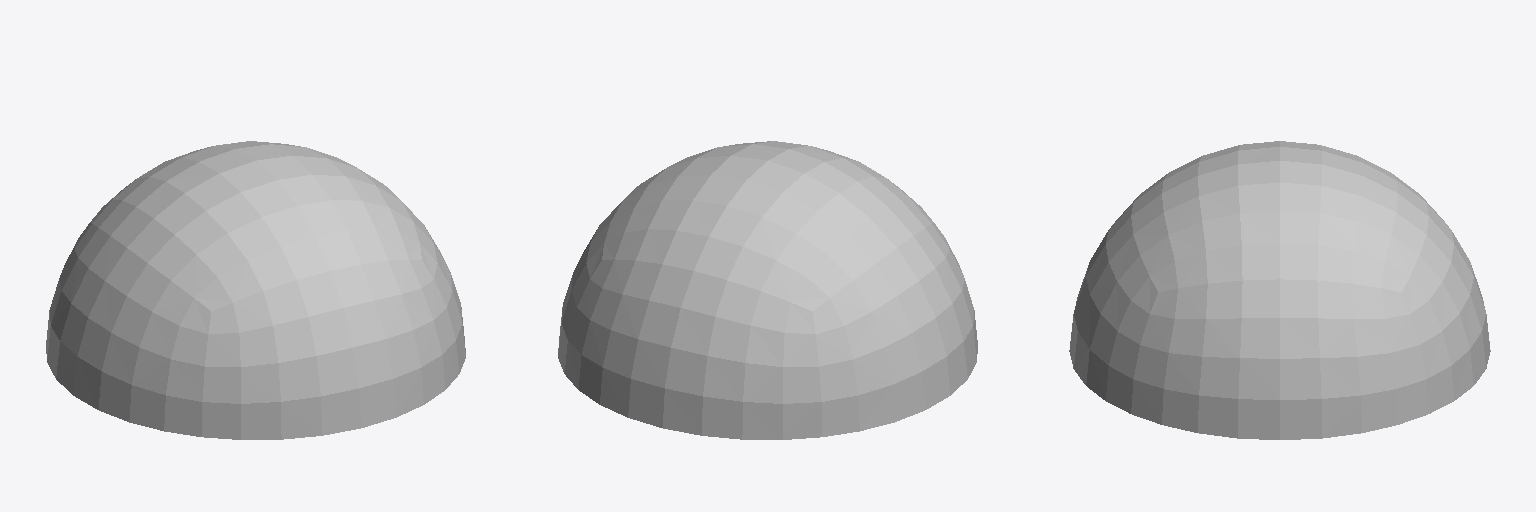
The model's file is fulldome_quads_16_9_mesh.obj.
3 renders of one model, left to right at view 1: azimuth 30°, elevation 25°; view 2: azimuth 150°, elevation 25°; view 3: azimuth 270°, elevation 25°, orthographic.
Parts seen in each view (by area): view 1: domeViewer; view 2: domeViewer; view 3: domeViewer.
Boxes of the visible parts, box(x1,y1,x2,y2) form: domeViewer: box(46, 141, 465, 439); domeViewer: box(558, 141, 977, 439); domeViewer: box(1069, 141, 1490, 439).
Bounding box in the file's own units: 2.01 × 1 × 2.01.